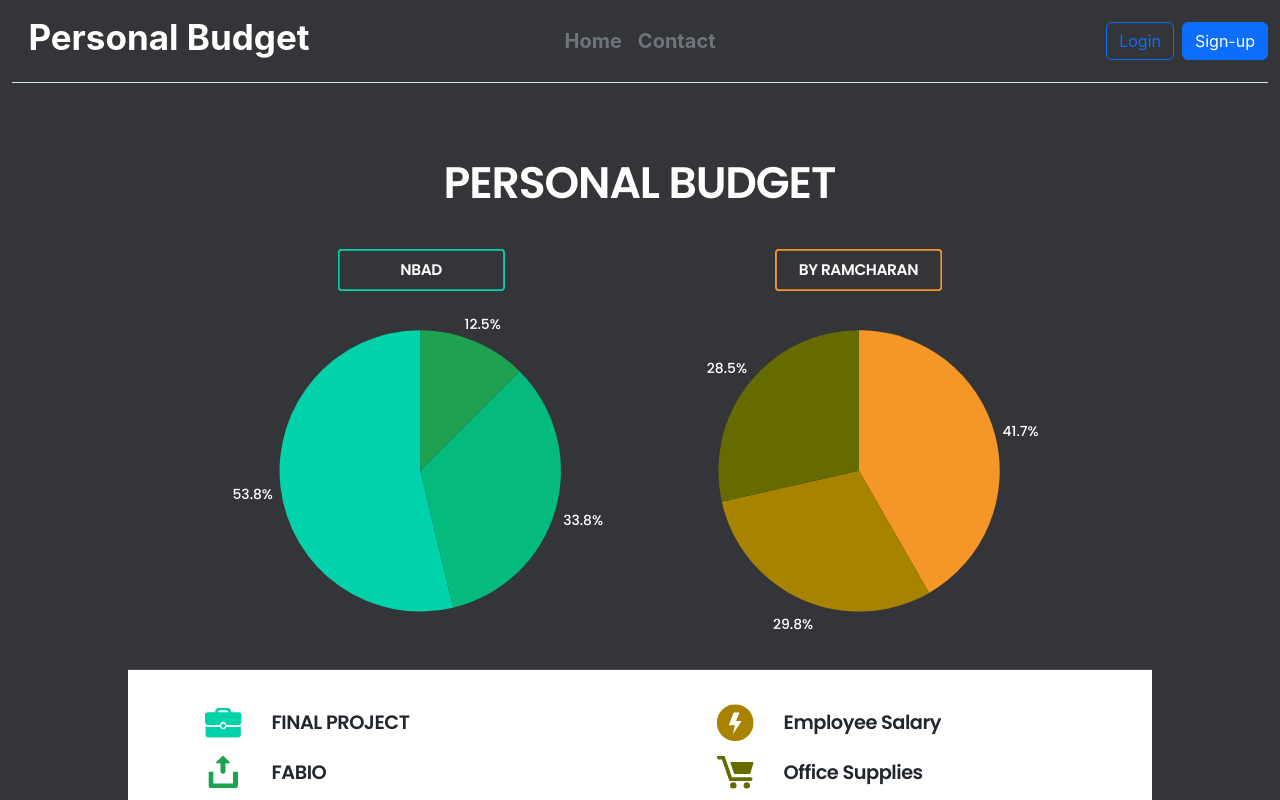
it: Sign up feature testing › Should open sign up page
Click the button with class "signup" at (1225, 41), box top-left (1182, 22), bottom-right (1268, 60)
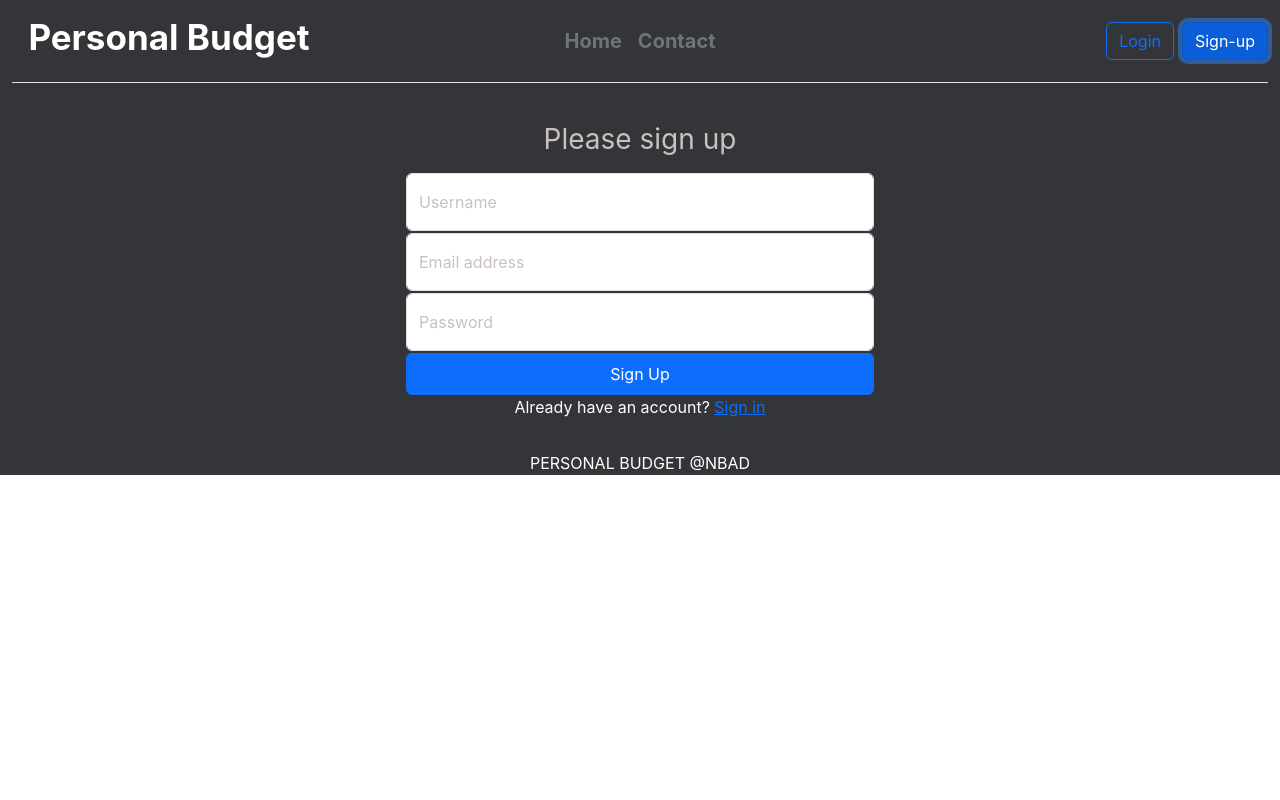
Result: the heading "Please sign up" is shown at top-left (544, 122), bottom-right (736, 156)
